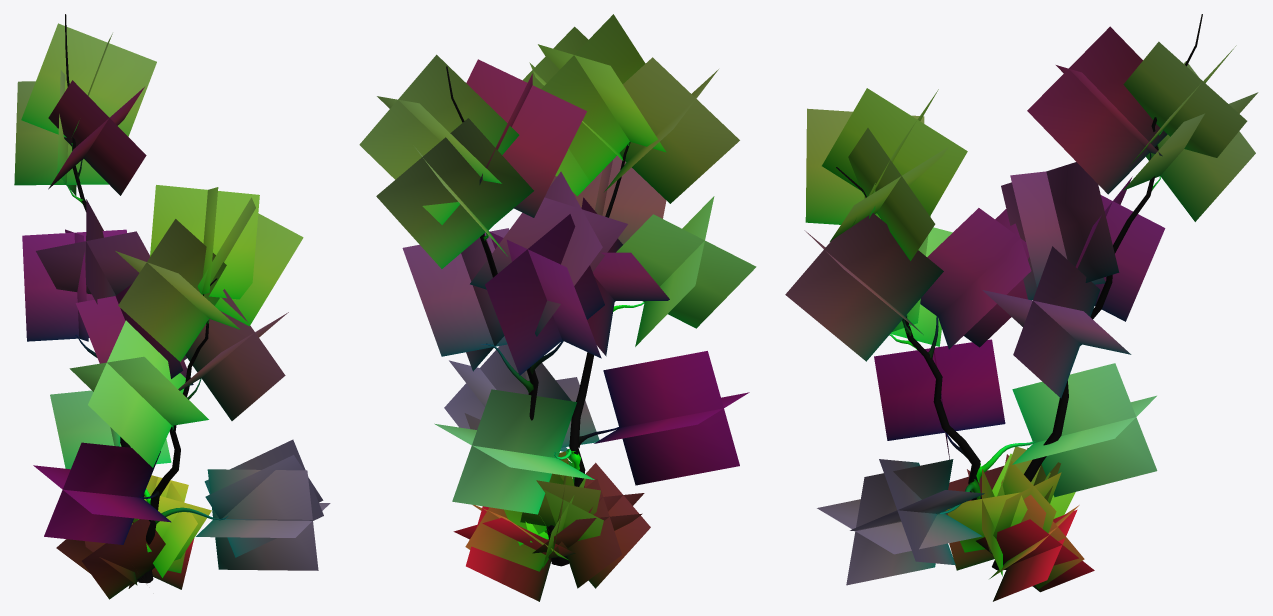
Rendered from URP_P12_Tree_8_LOD_1.fbx.
3 views of the same model, side by side, from view 1: azimuth 30°, elevation 25°; view 2: azimuth 150°, elevation 25°; view 3: azimuth 270°, elevation 25° (orthographic). The views are drawn at different scales.
Parts seen in each view (by area): view 1: Tree_8_LOD_1; view 2: Tree_8_LOD_1; view 3: Tree_8_LOD_1.
Boxes of the visible parts, box(x1,y1,x2,y2) form: Tree_8_LOD_1: box(14, 14, 330, 599); Tree_8_LOD_1: box(359, 14, 756, 601); Tree_8_LOD_1: box(785, 14, 1258, 601).
Size of the model in its own units: 198 by 364 by 268.
